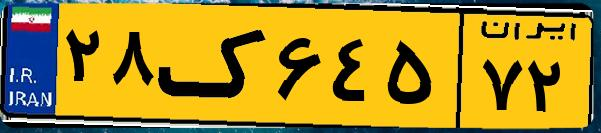2: (57, 26, 110, 100), (525, 38, 570, 115)
4: (330, 28, 385, 110)
5: (385, 28, 445, 110)
6: (270, 28, 330, 110)
7: (475, 38, 525, 113)
8: (110, 28, 158, 98)
ک: (158, 12, 270, 120)
